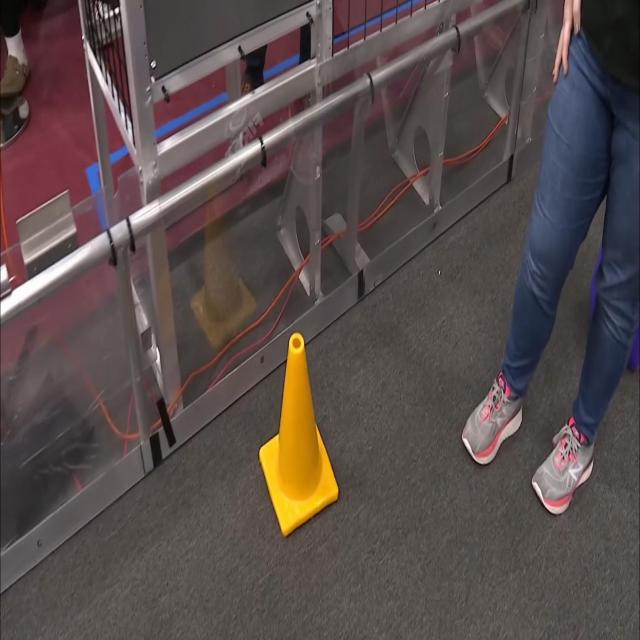frc_cone: (257, 323, 338, 534)
